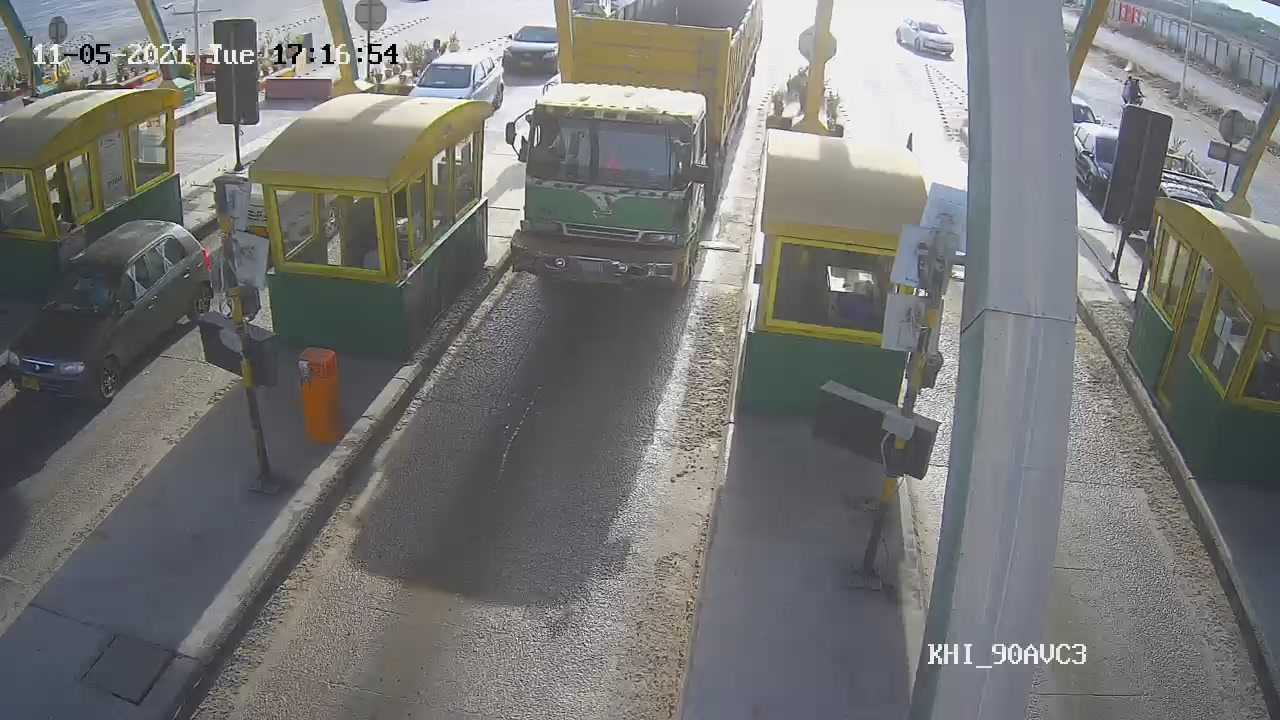F6: (505, 1, 757, 309)
